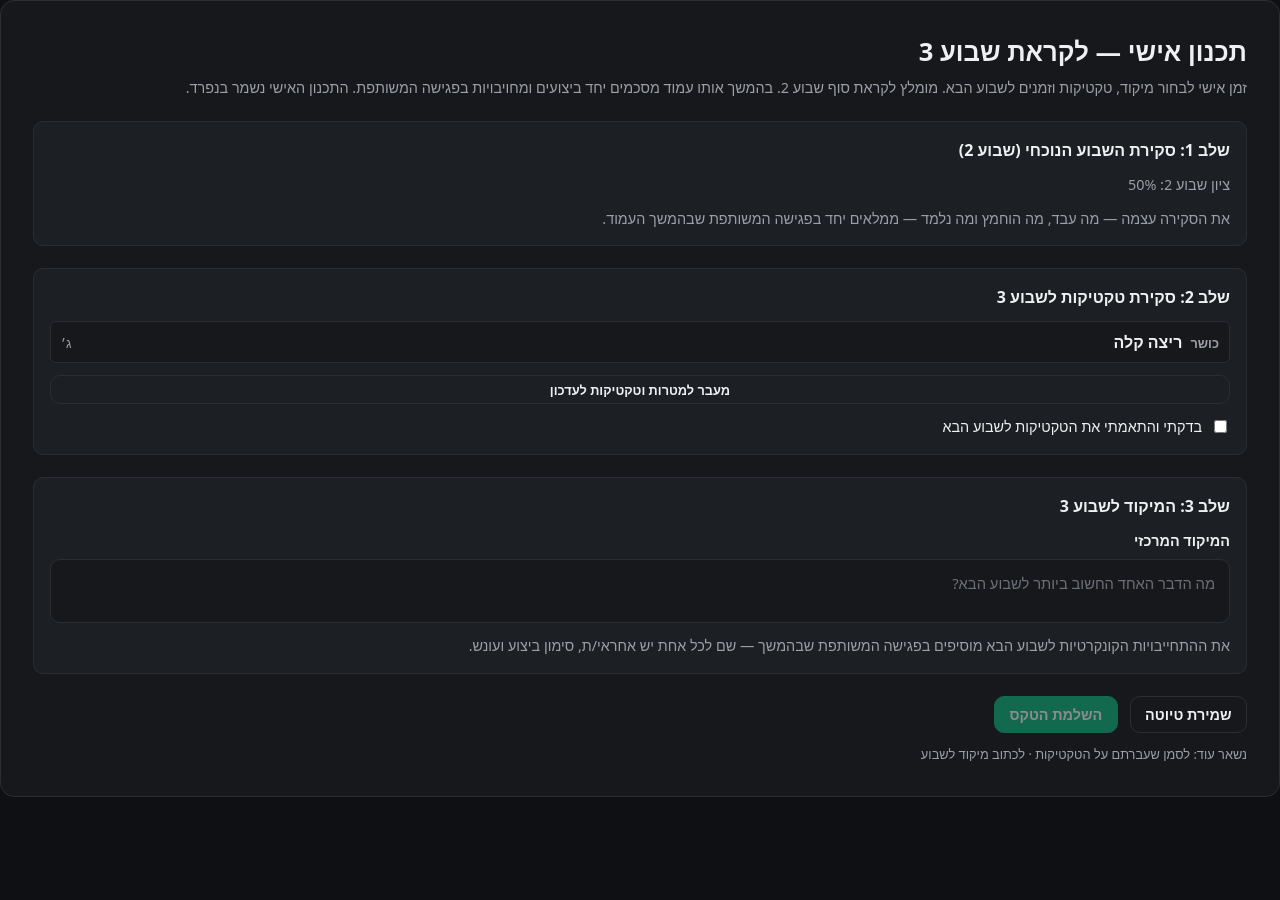
Test: WeeklyPlanningRitualPanel (owner, draft) › saves a draft explicitly via the save-draft button
Step 1. Type "להתמיד" into the text box labelled "המיקוד המרכזי" → (640, 591), box [50,559,1230,623]
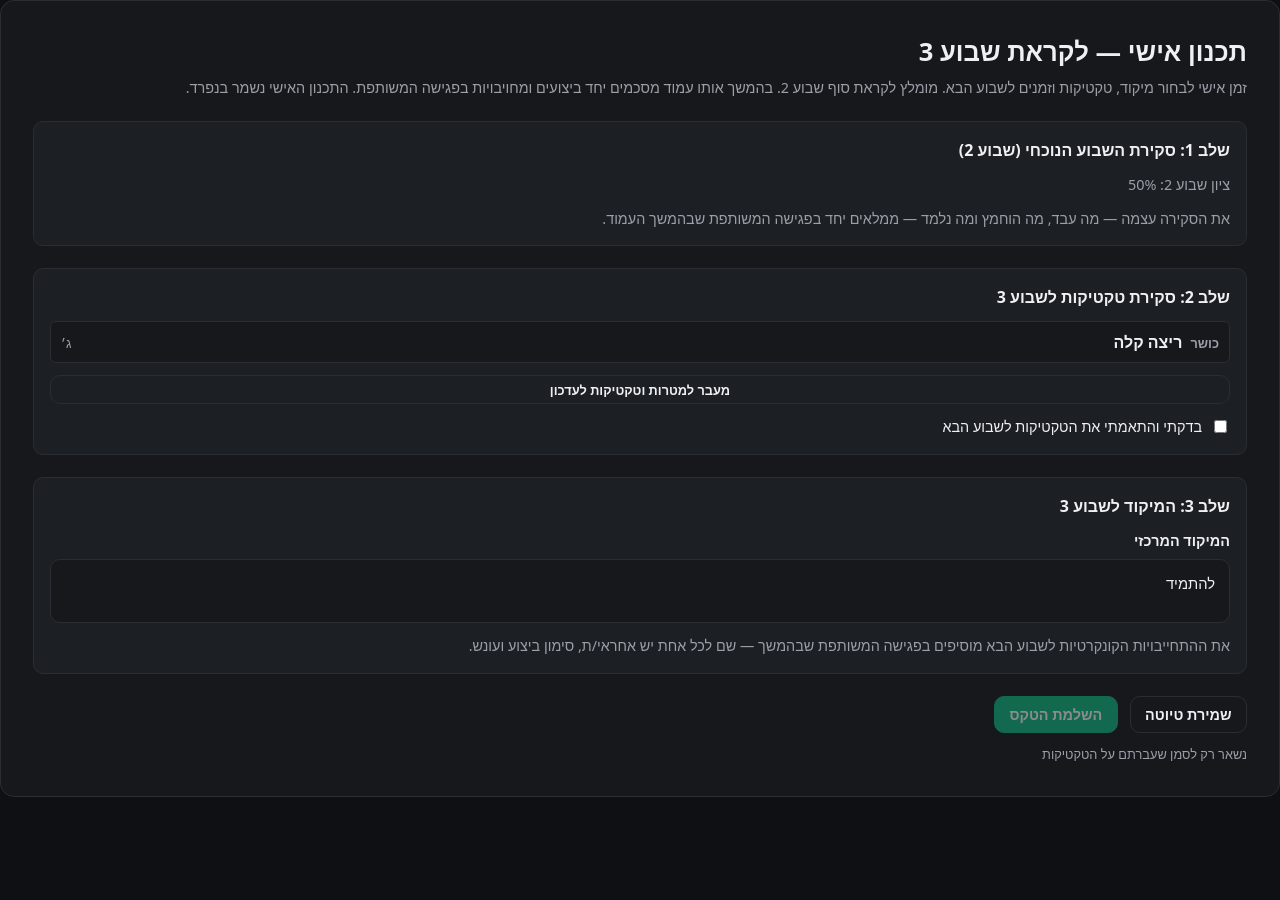
Step 2. Click the button "שמירת טיוטה" → (1188, 714), box [1130,696,1247,733]
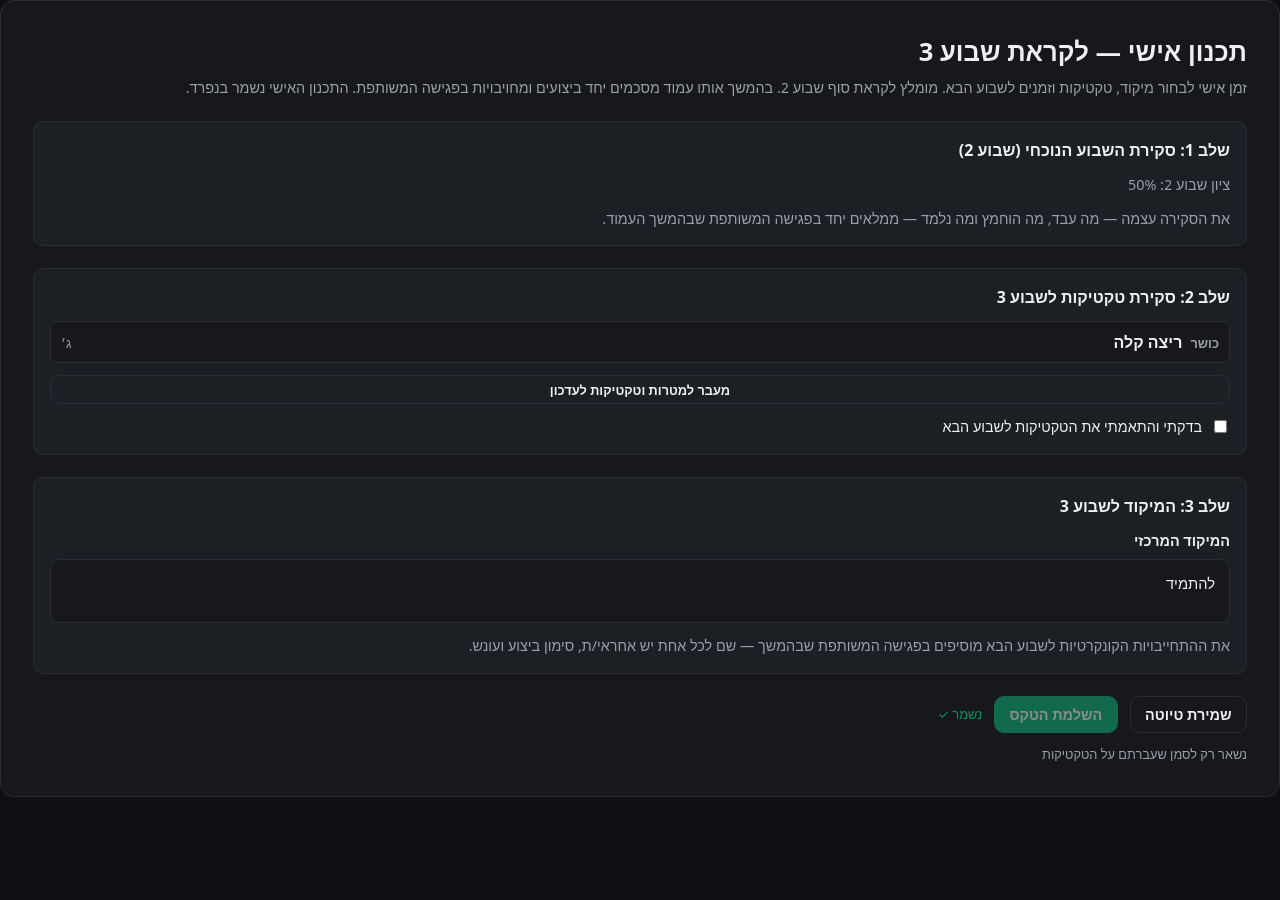
Now the text "נשמר ✓" is shown, box [938,705,982,724]
